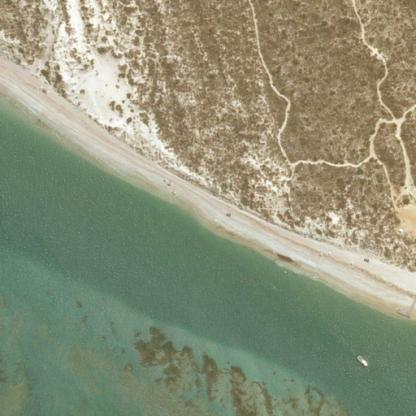ship: (352, 350, 371, 370)
